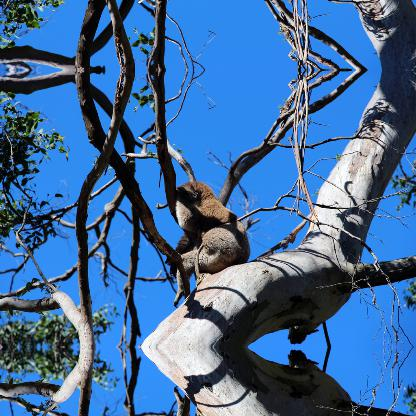Monkey: (166, 142, 252, 300)
